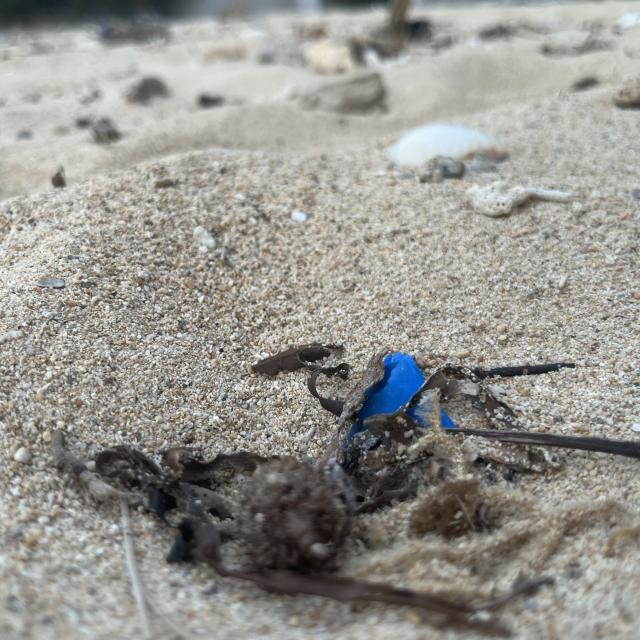seaweed: (62, 416, 615, 598)
trash: (344, 348, 460, 460)
